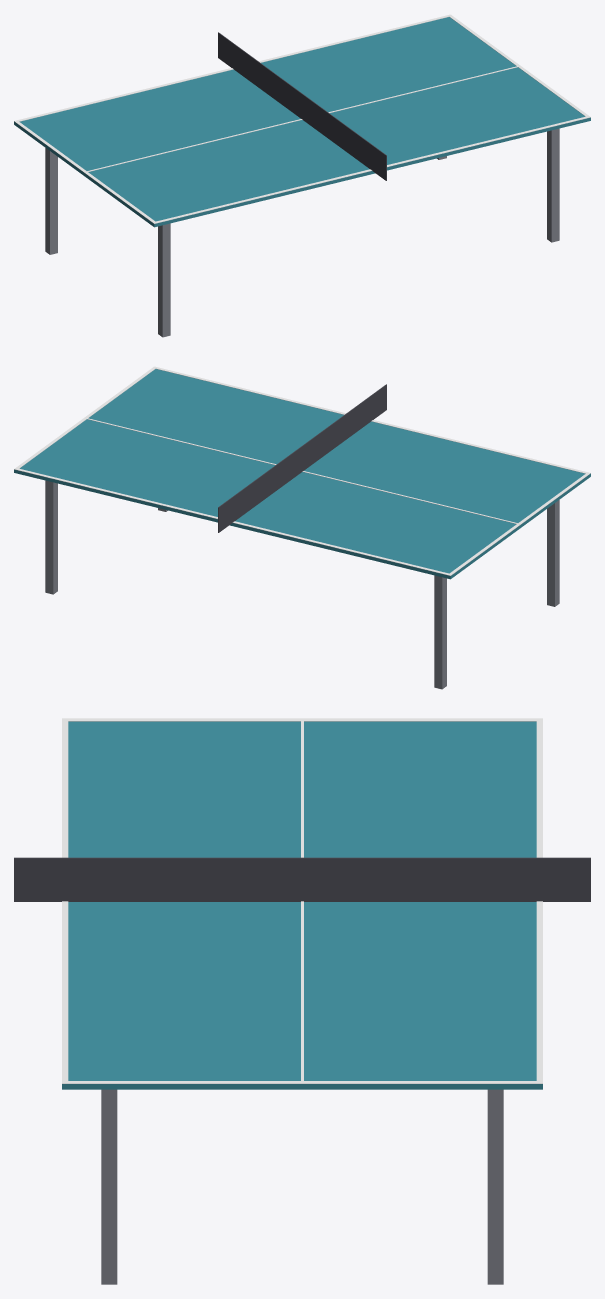
Rendered from ping-pong-table.glb.
3 views of the same model, one above another, from view 1: azimuth 30°, elevation 25°; view 2: azimuth 150°, elevation 25°; view 3: azimuth 270°, elevation 25° (orthographic). The views are drawn at different scales.
Visible parts, largest first — view 1: TableTop, Net, Leg_ES, Leg_WS, Leg_WN, SideLine_W, SideLine_E, CenterLine, EndLine_S, EndLine_N; view 2: TableTop, Net, Leg_EN, Leg_WN, Leg_WS, SideLine_E, SideLine_W, CenterLine, EndLine_S, EndLine_N; view 3: TableTop, Net, Leg_EN, Leg_ES, SideLine_E, SideLine_W, EndLine_S, EndLine_N, CenterLine.
Boxes of the visible parts, box(x1,y1,x2,y2) form: TableTop: box(14, 17, 590, 227); Net: box(218, 32, 386, 180); Leg_ES: box(547, 128, 559, 242); Leg_WS: box(158, 223, 170, 337); Leg_WN: box(45, 148, 57, 254); SideLine_W: box(153, 116, 590, 223); SideLine_E: box(14, 14, 451, 122); CenterLine: box(84, 65, 520, 172); EndLine_S: box(14, 121, 155, 223); EndLine_N: box(449, 16, 588, 116); TableTop: box(14, 369, 590, 579); Net: box(218, 384, 386, 532); Leg_EN: box(45, 480, 57, 594); Leg_WN: box(434, 575, 446, 689); Leg_WS: box(547, 500, 559, 606); SideLine_E: box(14, 468, 452, 575); SideLine_W: box(153, 366, 590, 474); CenterLine: box(84, 417, 520, 524); EndLine_S: box(448, 473, 588, 575); EndLine_N: box(16, 368, 155, 468); TableTop: box(62, 721, 542, 1089); Net: box(14, 857, 590, 901); Leg_EN: box(487, 1089, 503, 1284); Leg_ES: box(101, 1089, 117, 1284); SideLine_E: box(536, 718, 542, 1083); SideLine_W: box(62, 718, 68, 1083); EndLine_S: box(68, 718, 536, 721); EndLine_N: box(62, 1081, 542, 1083); CenterLine: box(301, 718, 303, 1083).
Bounding box in the file's own units: 2.74 × 0.9125 × 1.83.
